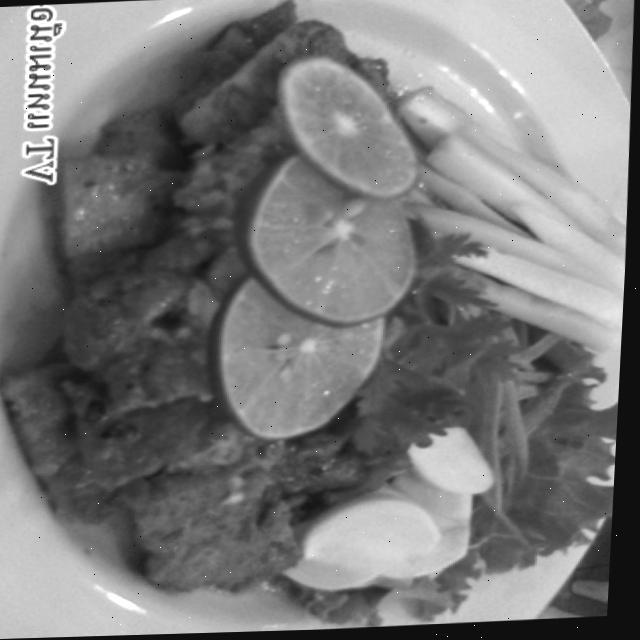猪肉菜式: (3, 0, 640, 637)
